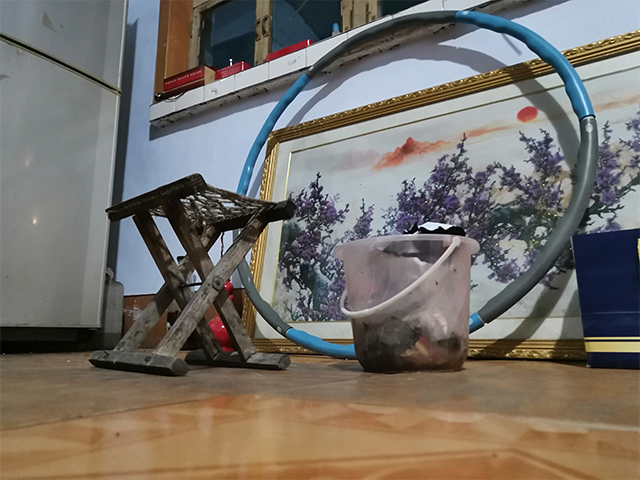stool: (85, 172, 300, 378)
trashcan: (330, 219, 481, 373)
